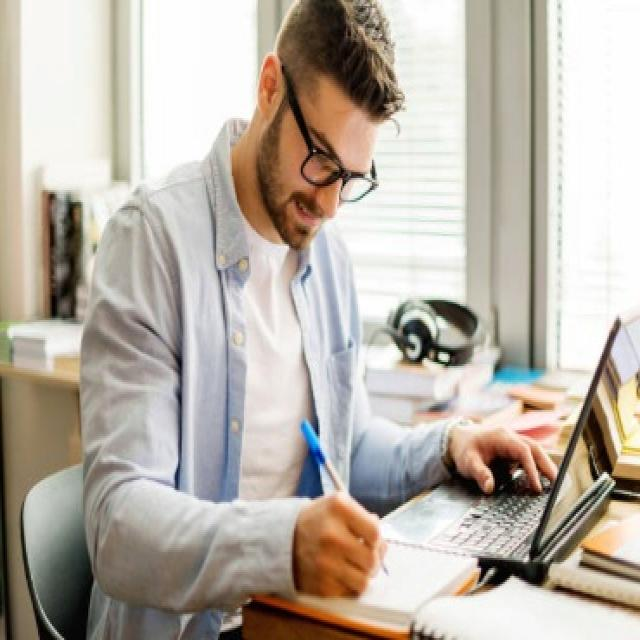adult: (82, 3, 560, 606)
